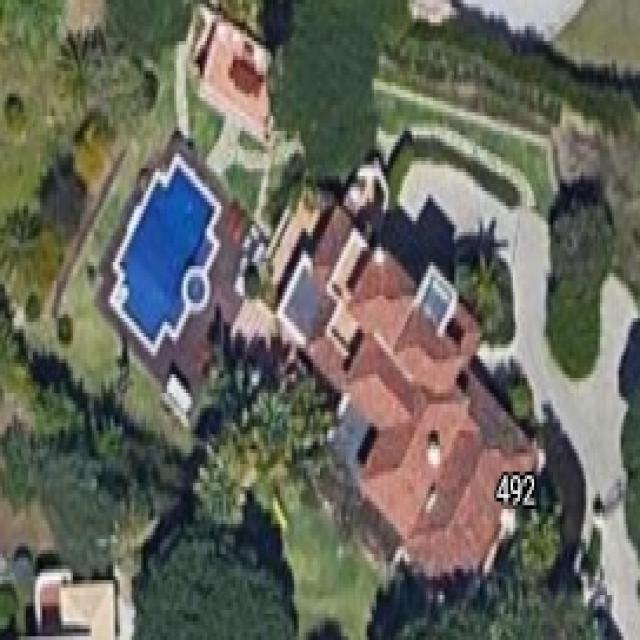pool: (55, 123, 276, 406)
